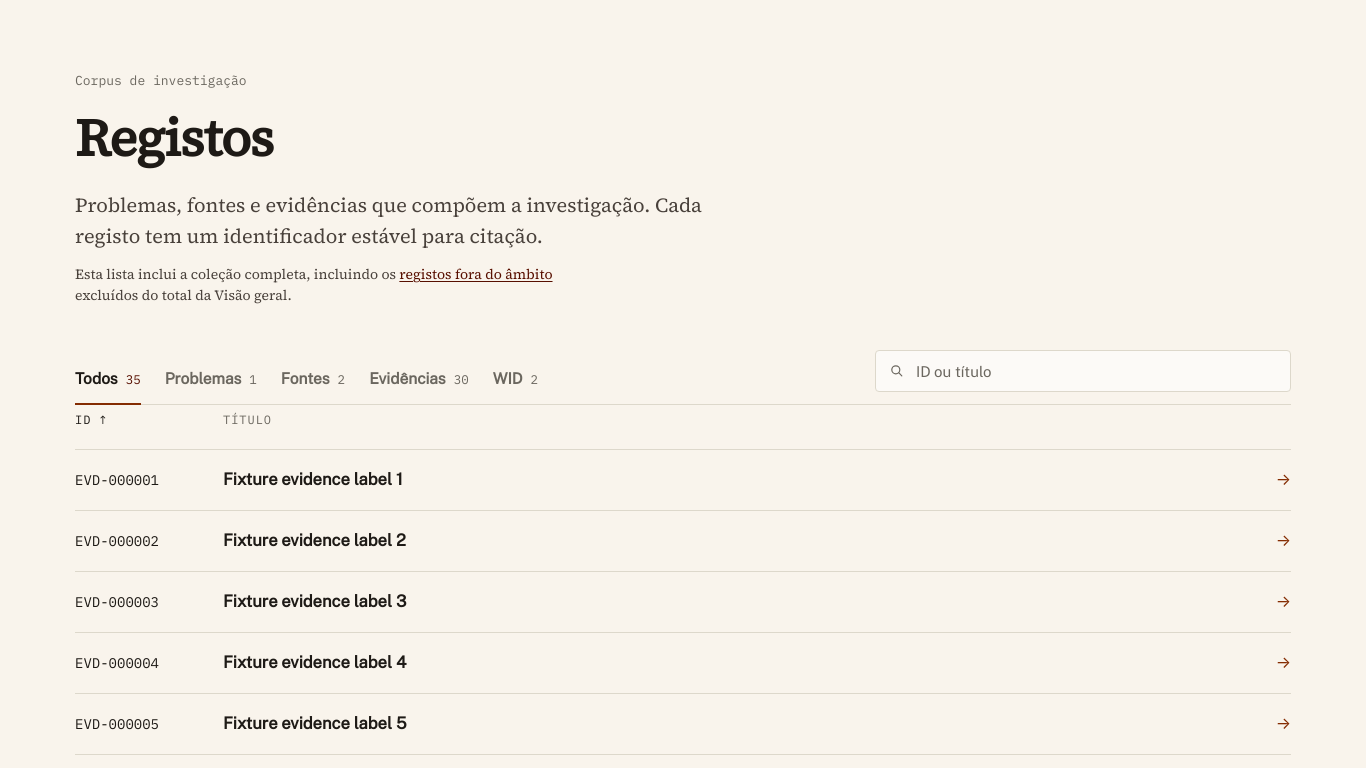
Test: RecordsTable — sorting › toggles ID between ascending and descending without an unsorted state
Click the button "ID ↑": [91, 427] box [75, 411, 106, 443]
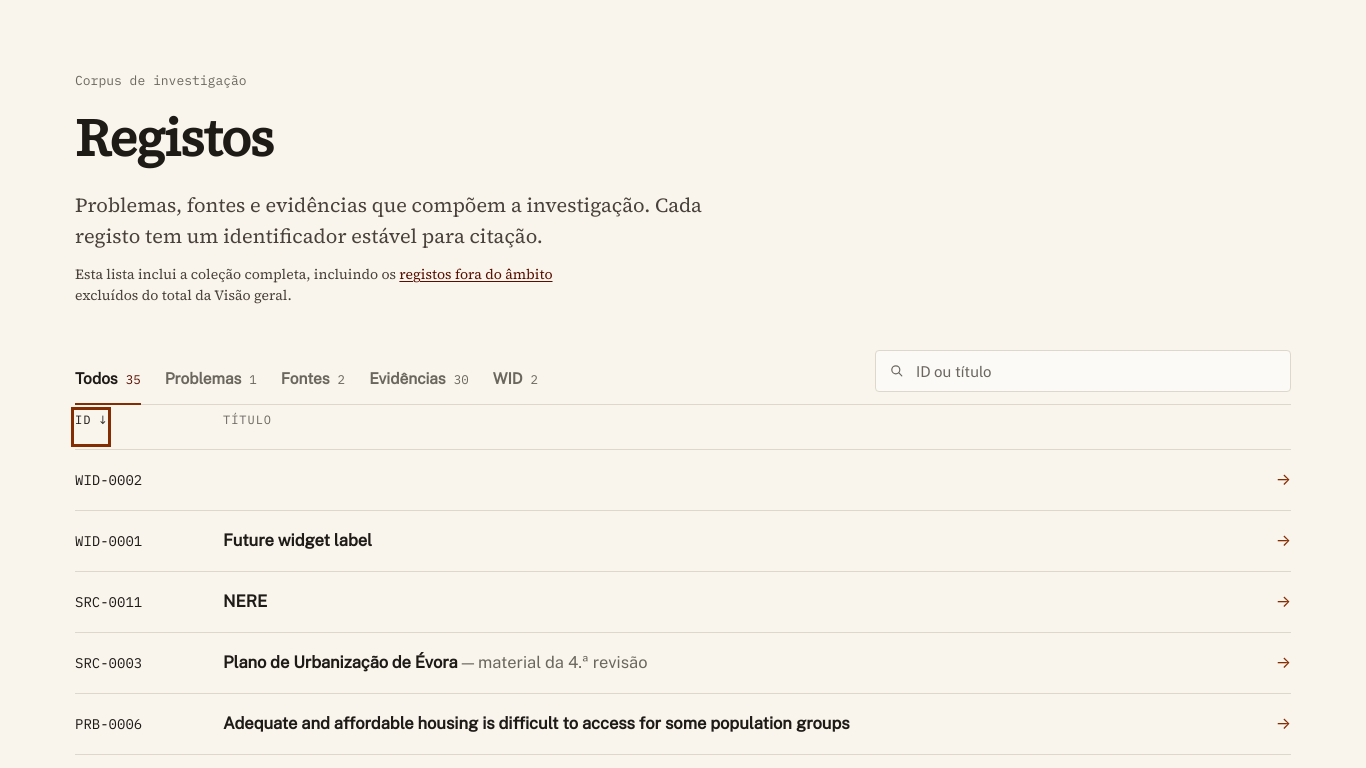
Result: the button "ID ↓" is shown
Result: the text with class "records-row-id" reads "WID-0002" at [75, 470, 142, 488]
Click the button "ID ↓": [91, 427] box [75, 411, 106, 443]
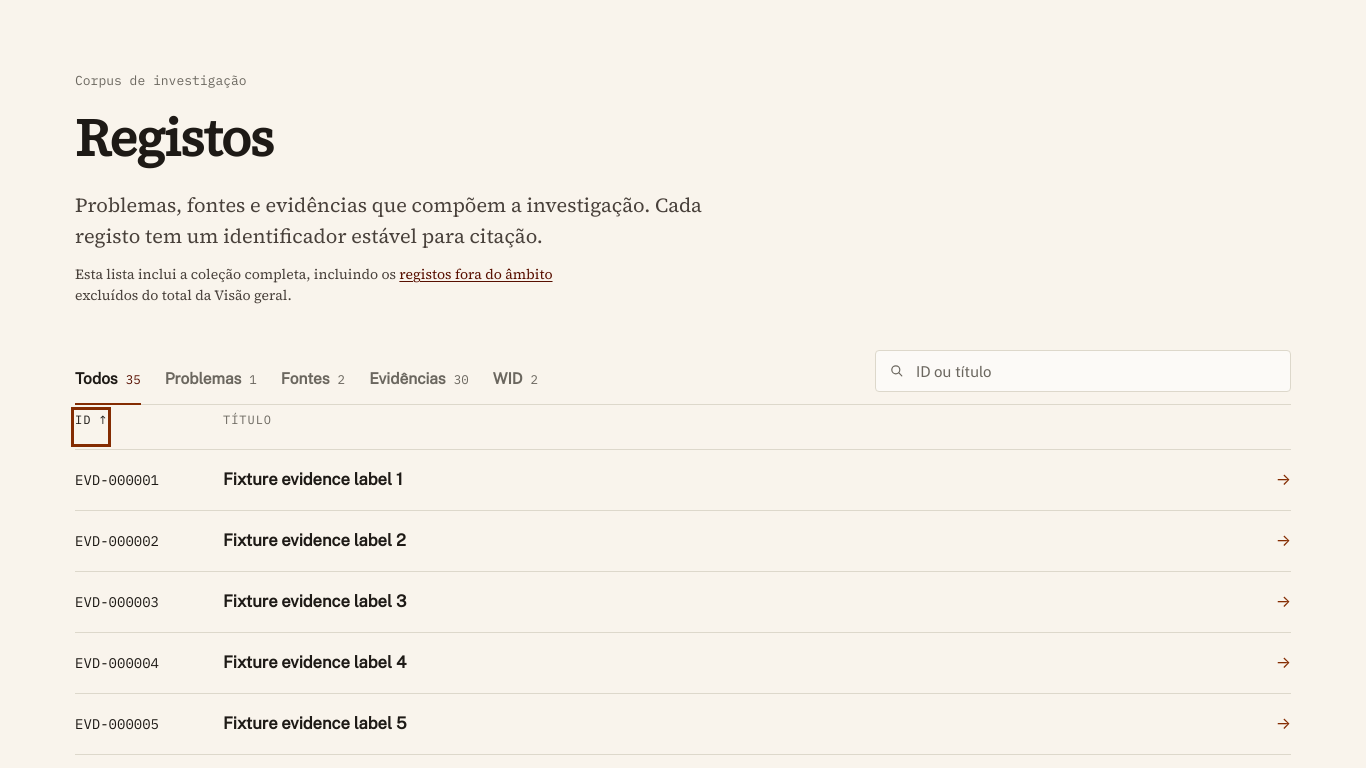
Result: the button "ID ↑" is shown at [75, 411, 106, 443]
Result: the text with class "records-row-id" reads "EVD-000001" at [75, 470, 159, 488]
